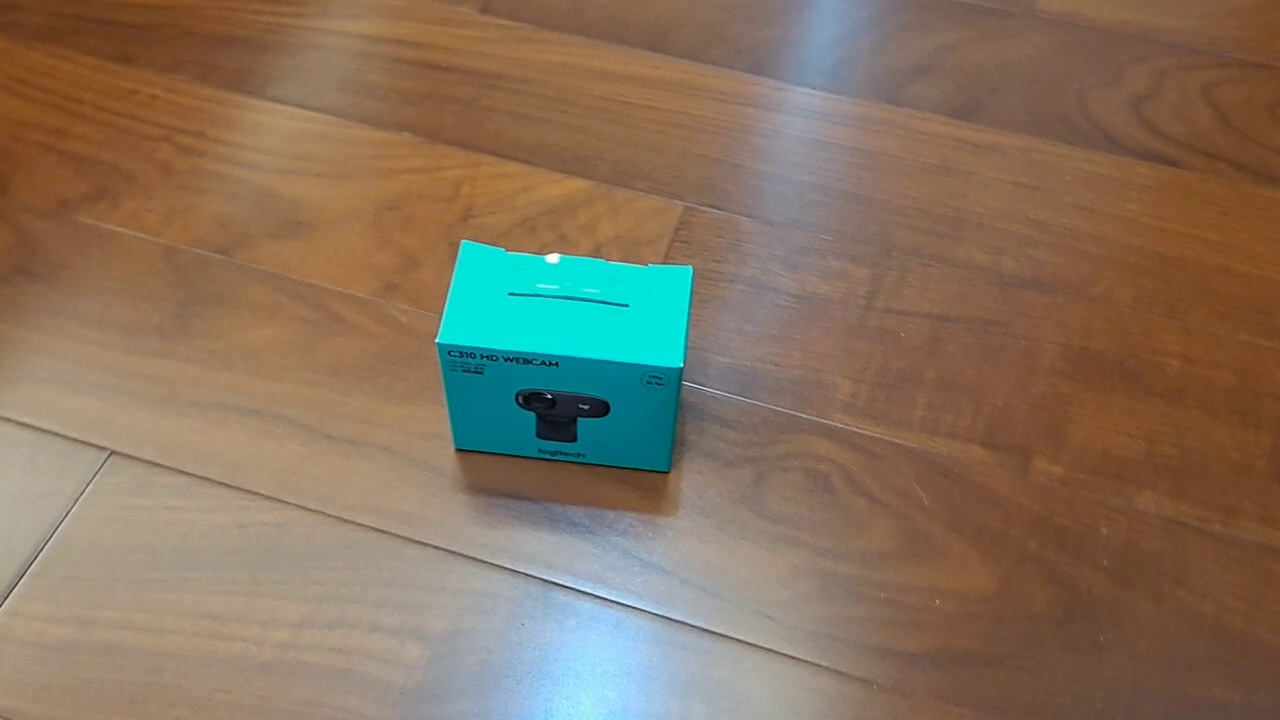webcam: (433, 238, 695, 474)
